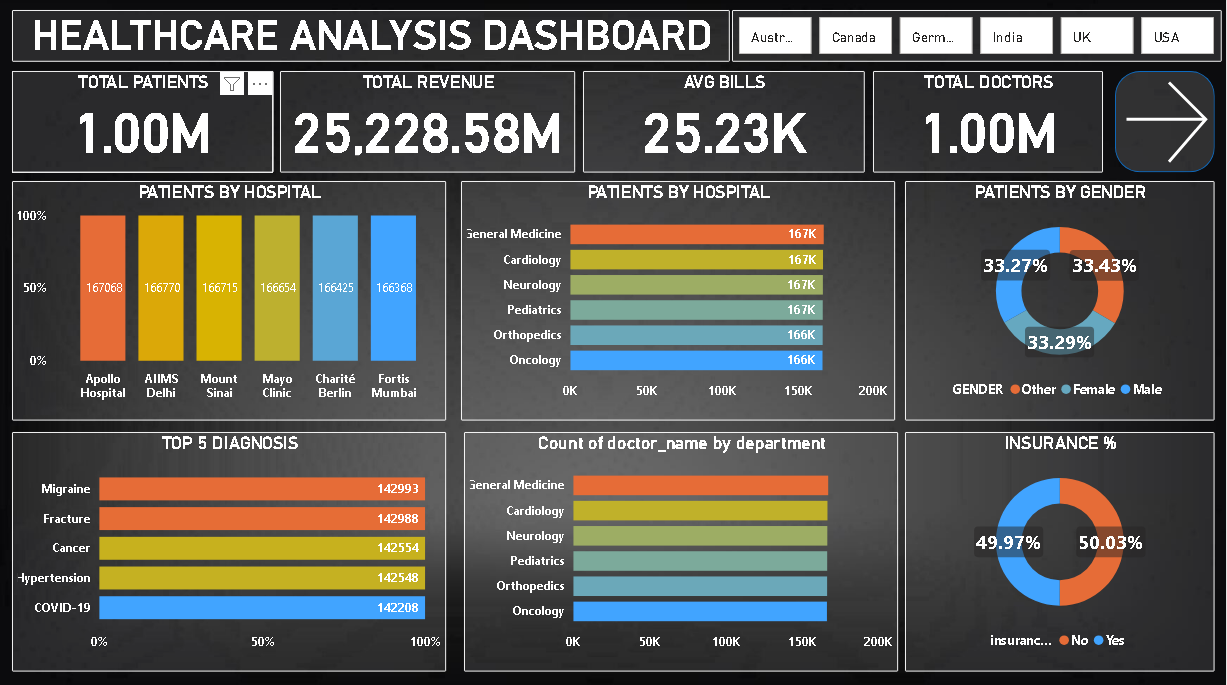

This screenshot's page, from the dashboard's own definition file:
{"tool":"powerbi","page":{"name":"Page 1","canvas":[1280,720],"ordinal":0},"visuals":[{"type":"textbox","title":"HEALTHCARE ANALYSIS  DASHBOARD","box":[12.2,12.2,748.7,53.6],"z":0},{"type":"card","title":"TOTAL PATIENTS","fields":{"Values":["CountNonNull(public health.patient_id)"]},"box":[12.2,76.6,298.6,105.6],"z":1000},{"type":"card","title":"TOTAL REVENUE","fields":{"Values":["Sum(public health.bill_amount)"]},"box":[320,76.6,313.9,105.6],"z":2000},{"type":"card","title":"AVG BILLS","fields":{"Values":["Avg(public health.bill_amount)"]},"box":[643.1,76.6,312.3,105.6],"z":3000},{"type":"hundredPercentStackedColumnChart","title":"PATIENTS BY HOSPITAL","fields":{"Category":["public health.hospital_name"],"Y":["CountNonNull(public health.patient_id)"]},"box":[12.2,191.4,453.2,249.6],"z":4000},{"type":"clusteredBarChart","title":"PATIENTS BY HOSPITAL","fields":{"Category":["public health.department"],"Y":["CountNonNull(public health.patient_id)"]},"box":[477.7,191.4,453.2,249.6],"z":5000},{"type":"hundredPercentStackedBarChart","title":"TOP 5 DIAGNOSIS","fields":{"Category":["public health.diagnosis"],"Y":["CountNonNull(public health.patient_id)"]},"box":[12.2,453.2,453.2,249.6],"z":6000},{"type":"barChart","fields":{"Category":["public health.department"],"Y":["CountNonNull(public health.doctor_name)"]},"box":[478,453,453,250],"z":7000},{"type":"card","title":"TOTAL DOCTORS","fields":{"Values":["CountNonNull(public health.doctor_name)"]},"box":[963.1,76.6,304.7,105.6],"z":8000},{"type":"donutChart","title":"PATIENTS BY GENDER","fields":{"Y":["CountNonNull(public health.patient_id)"],"Category":["public health.gender"]},"box":[944.7,191.4,323.1,249.6],"z":9000},{"type":"donutChart","title":"INSURANCE %","fields":{"Y":["CountNonNull(public health.patient_id)"],"Category":["public health.insurance_used"]},"box":[944.7,453.2,323.1,249.6],"z":10000},{"type":"advancedSlicerVisual","fields":{"Values":["public health.country"]},"box":[764,12.2,511.4,53.6],"z":11000}]}

Visuals, with their boxes in screenshot pixels (x1, y1, x2, y2), scaled from the page's 1280x720 canvas onto the 1227x685 screenshot:
"HEALTHCARE ANALYSIS  DASHBOARD" textbox: crop(12, 12, 729, 63)
"TOTAL PATIENTS" card: crop(12, 73, 298, 173)
"TOTAL REVENUE" card: crop(307, 73, 608, 173)
"AVG BILLS" card: crop(616, 73, 916, 173)
"PATIENTS BY HOSPITAL" hundredPercentStackedColumnChart: crop(12, 182, 446, 420)
"PATIENTS BY HOSPITAL" clusteredBarChart: crop(458, 182, 892, 420)
"TOP 5 DIAGNOSIS" hundredPercentStackedBarChart: crop(12, 431, 446, 669)
barChart - public health.department x CountNonNull(public health.doctor_name): crop(458, 431, 892, 669)
"TOTAL DOCTORS" card: crop(923, 73, 1215, 173)
"PATIENTS BY GENDER" donutChart: crop(906, 182, 1215, 420)
"INSURANCE %" donutChart: crop(906, 431, 1215, 669)
advancedSlicerVisual - public health.country: crop(732, 12, 1223, 63)
